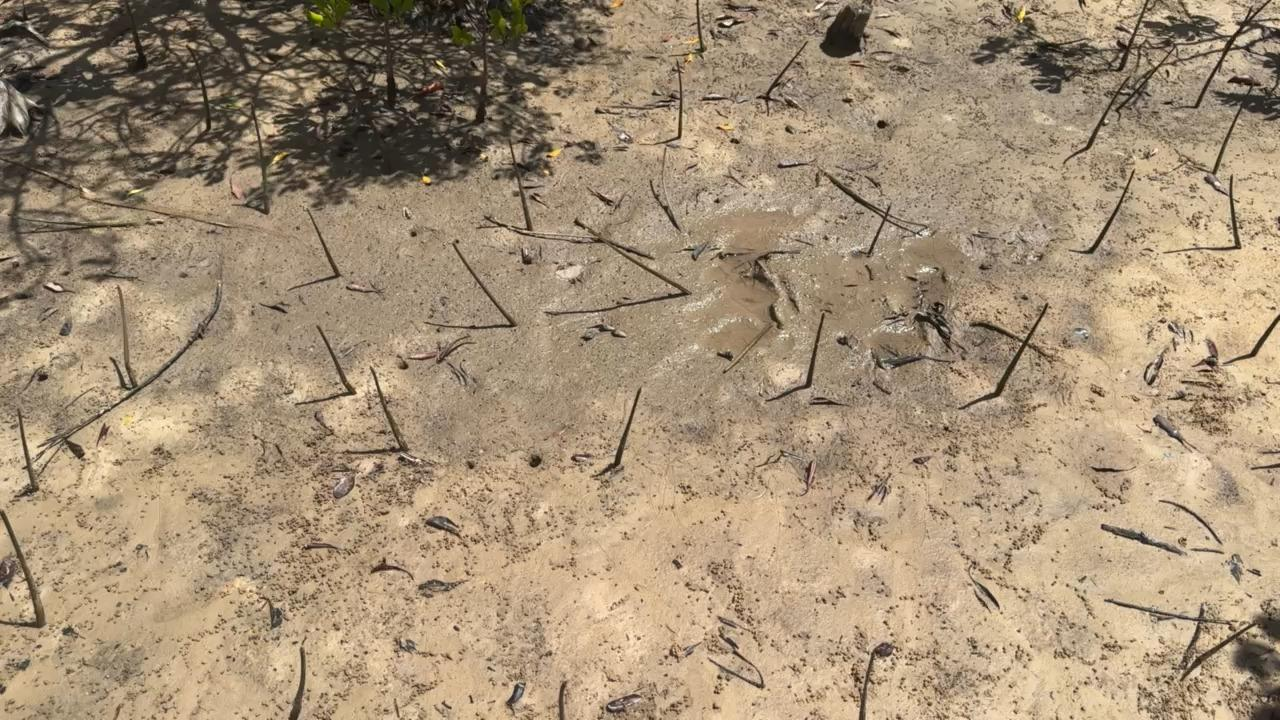Tree: (306, 0, 422, 109), (449, 0, 528, 124), (573, 218, 693, 295), (1195, 6, 1252, 108), (452, 242, 517, 325), (993, 302, 1049, 396), (0, 508, 44, 625), (1180, 621, 1257, 682), (1115, 44, 1177, 111), (1088, 169, 1136, 253), (1217, 0, 1271, 71), (1210, 84, 1252, 175), (369, 365, 409, 454), (1086, 75, 1130, 148), (1158, 500, 1224, 545), (315, 324, 356, 396), (305, 207, 342, 278), (115, 284, 140, 386), (766, 40, 809, 96), (613, 387, 642, 467), (250, 102, 270, 216), (1117, 0, 1149, 71), (184, 46, 211, 130), (508, 138, 532, 230), (16, 408, 40, 493), (123, 0, 148, 68), (804, 312, 825, 387), (287, 642, 306, 720), (857, 648, 876, 720), (867, 203, 892, 256), (1250, 314, 1280, 357), (1230, 174, 1240, 249), (675, 58, 683, 140), (695, 0, 705, 53), (557, 680, 566, 720), (21, 0, 27, 21)
